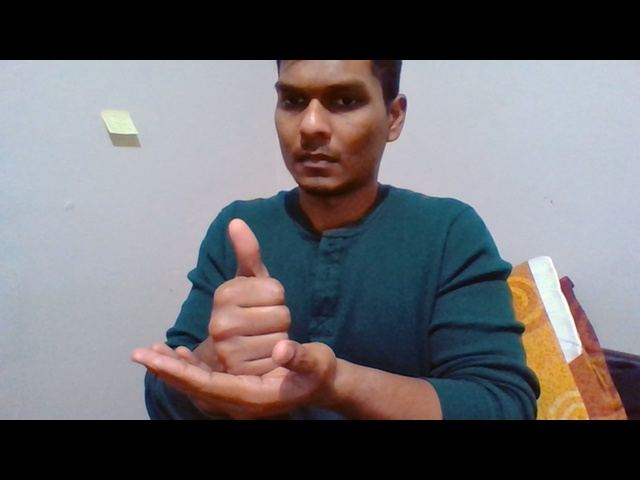Help: (130, 215, 342, 420)
